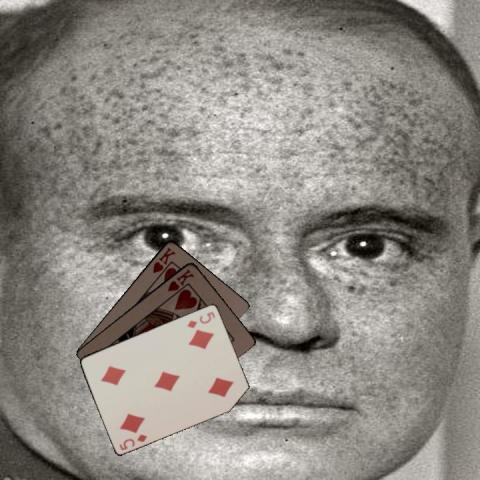5d: (184, 309, 217, 329), (116, 431, 149, 451)
Kh: (149, 244, 177, 275), (164, 265, 195, 293)
